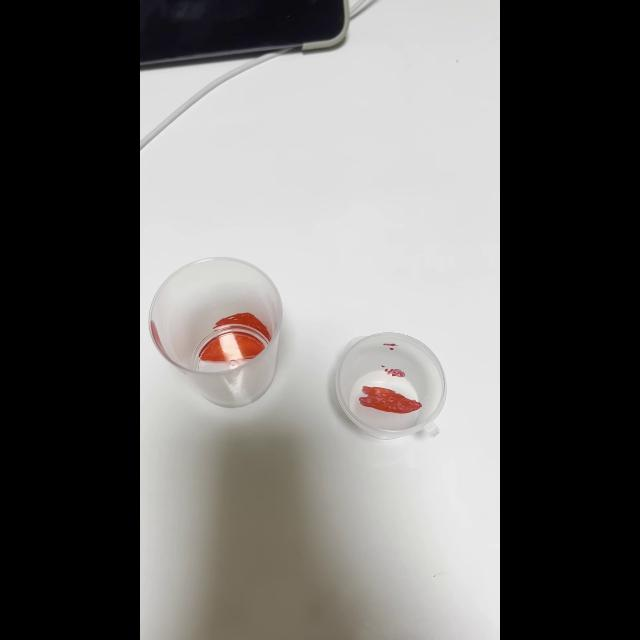dirty: (152, 254, 288, 406), (336, 327, 448, 445)
